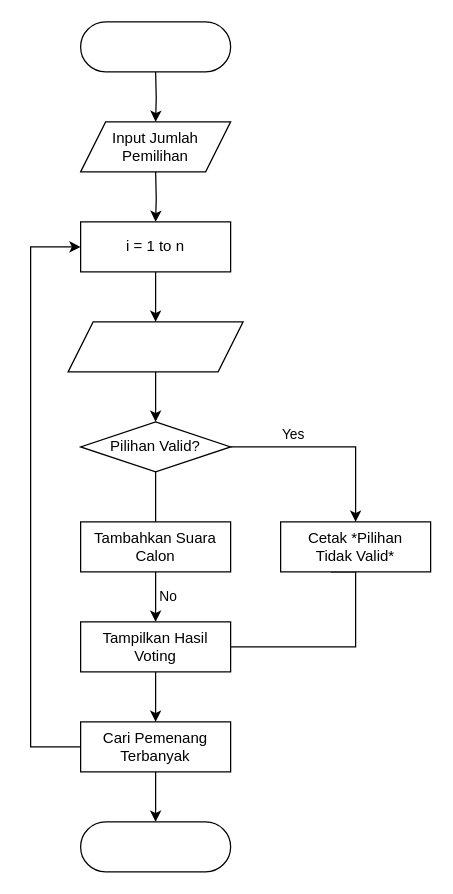
Some shapes in this 453 by 894 pixel diagram are drawn without their labels. Each missing label, with the box of its shape:
End: (79, 821, 231, 872)
Start: (79, 21, 231, 72)
Tampilkan Daftar calon: (67, 321, 243, 372)
